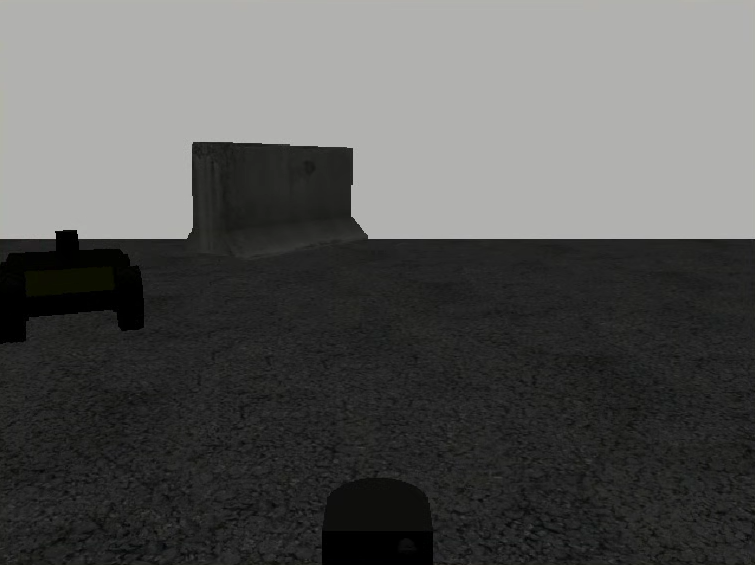husky: (1, 248, 145, 343)
